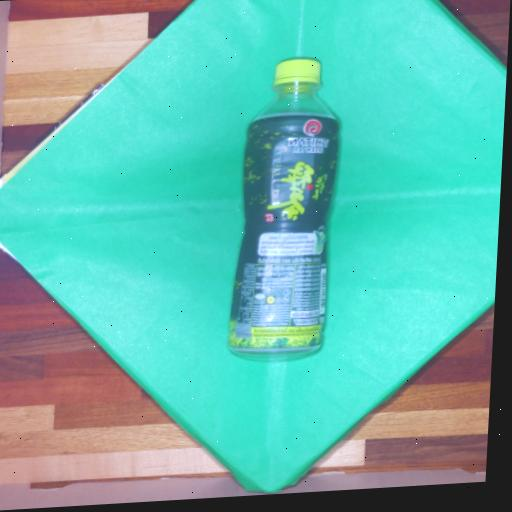bottle: (229, 59, 338, 354)
